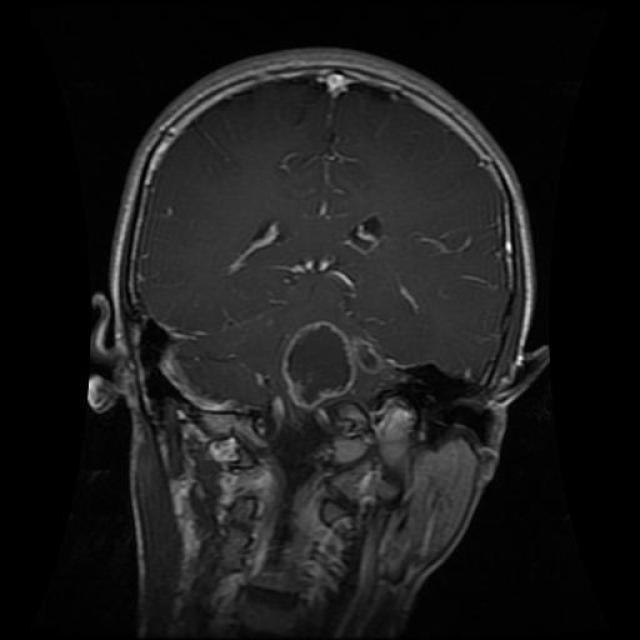glioma: (279, 316, 360, 408)
